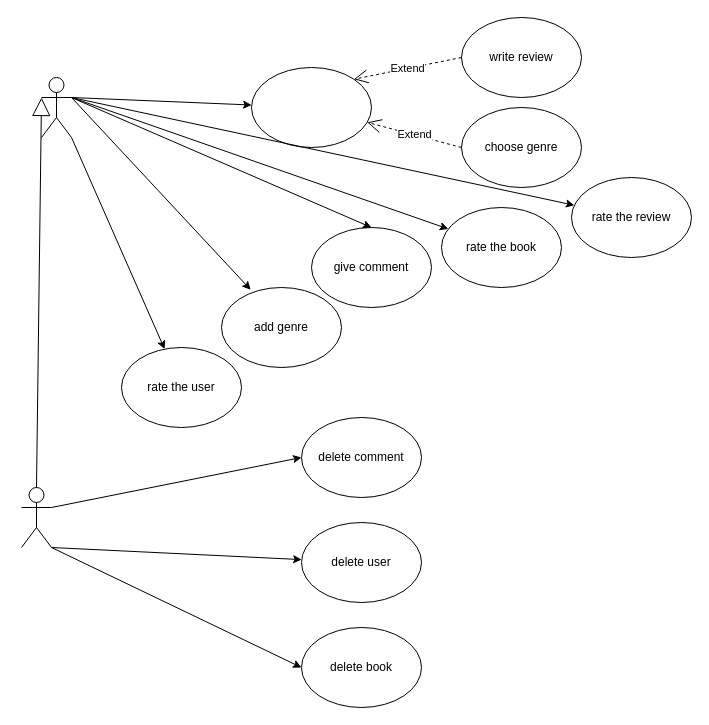
Image size: 709x725. Some labels were removed from this diagram. The shapes that lost their labels are listed below. From the top down, each one's box as (x1, y1, x2, y2) in pixels, then its label:
(40, 76, 72, 138): USER
(250, 66, 372, 148): add book
(20, 486, 52, 548): ADMIN
